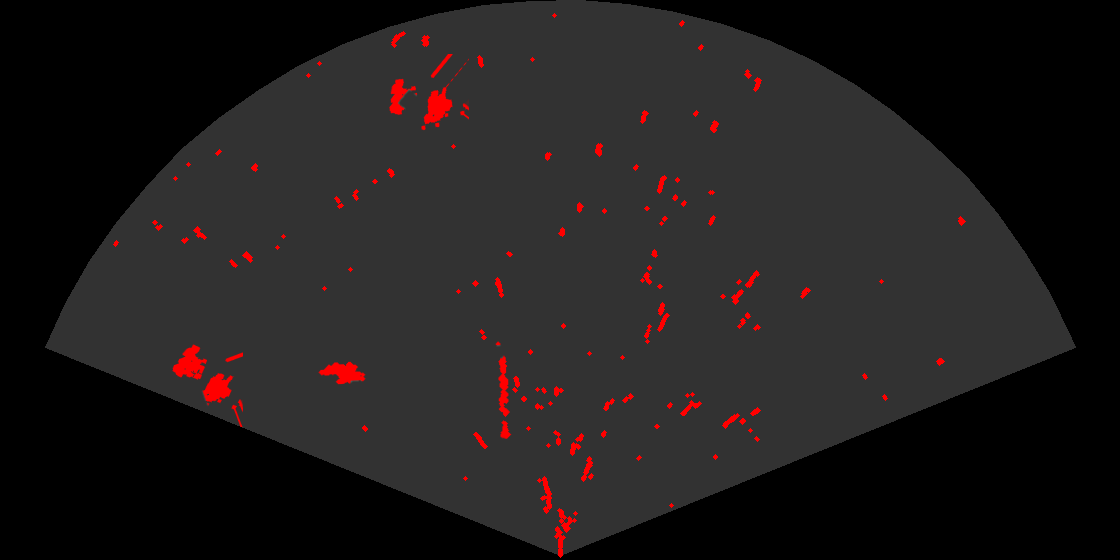AUV: (317, 360, 367, 386)
cage: (388, 54, 469, 132), (171, 343, 243, 427)
chain: (494, 340, 513, 439)
